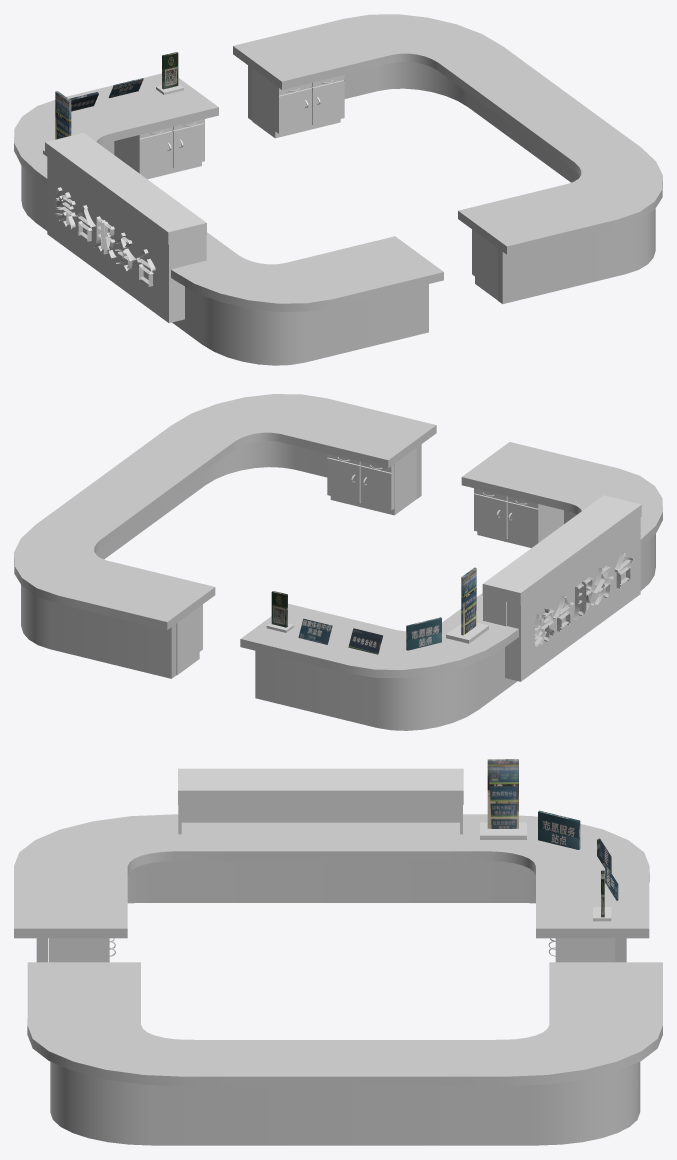
The model's file is desk.FBX.
3 views of the same model, one above another, from view 1: azimuth 30°, elevation 25°; view 2: azimuth 150°, elevation 25°; view 3: azimuth 270°, elevation 25° (orthographic). The views are drawn at different scales.
Visible parts, largest first — view 1: Loft002, Loft001, Rectangle001, Rectangle006, Box016, Box017, Box022, Box002, Text002, Box023, Box029, Box001 (+3 smaller); view 2: Loft002, Loft001, Rectangle001, Rectangle006, Box016, Box017, Box011, Box028, Text002, Box029, Box023, Box031 (+6 smaller); view 3: Loft002, Loft001, Rectangle006, Rectangle001, Box017, Box016, Box031, Box010, Box001, Box032, Box030.
Part boxes in pixels (x1,y1,x2,y2): Loft002: (233,14,662,254); Loft001: (14,73,443,311); Rectangle001: (21,141,428,365); Rectangle006: (248,62,655,304); Box016: (47,156,184,322); Box017: (45,133,206,244); Box022: (275,75,344,133); Box002: (136,119,204,176); Text002: (55,187,155,286); Box023: (252,68,340,138); Box029: (475,231,497,299); Box001: (114,136,201,179); Loft002: (14,394,436,630); Loft001: (240,442,662,677); Rectangle001: (255,510,655,730); Rectangle006: (21,441,421,678); Box016: (505,517,640,681); Box017: (482,495,641,604); Box011: (474,488,541,545); Box028: (327,453,394,510); Text002: (533,551,632,646); Box029: (330,448,416,515); Box023: (176,607,199,675); Box031: (461,567,476,635); Loft002: (27,962,662,1086); Loft001: (14,814,649,938); Rectangle006: (50,1061,640,1145); Rectangle001: (36,861,626,962); Box017: (178,768,463,804); Box016: (181,805,459,822); Box031: (487,759,518,828); Box010: (48,938,101,962); Box001: (563,938,615,962); Box032: (538,810,580,849); Box030: (480,822,526,839).
Bounding box in the file's own units: 409 × 105 × 414.
5 materials, 5 textured.
